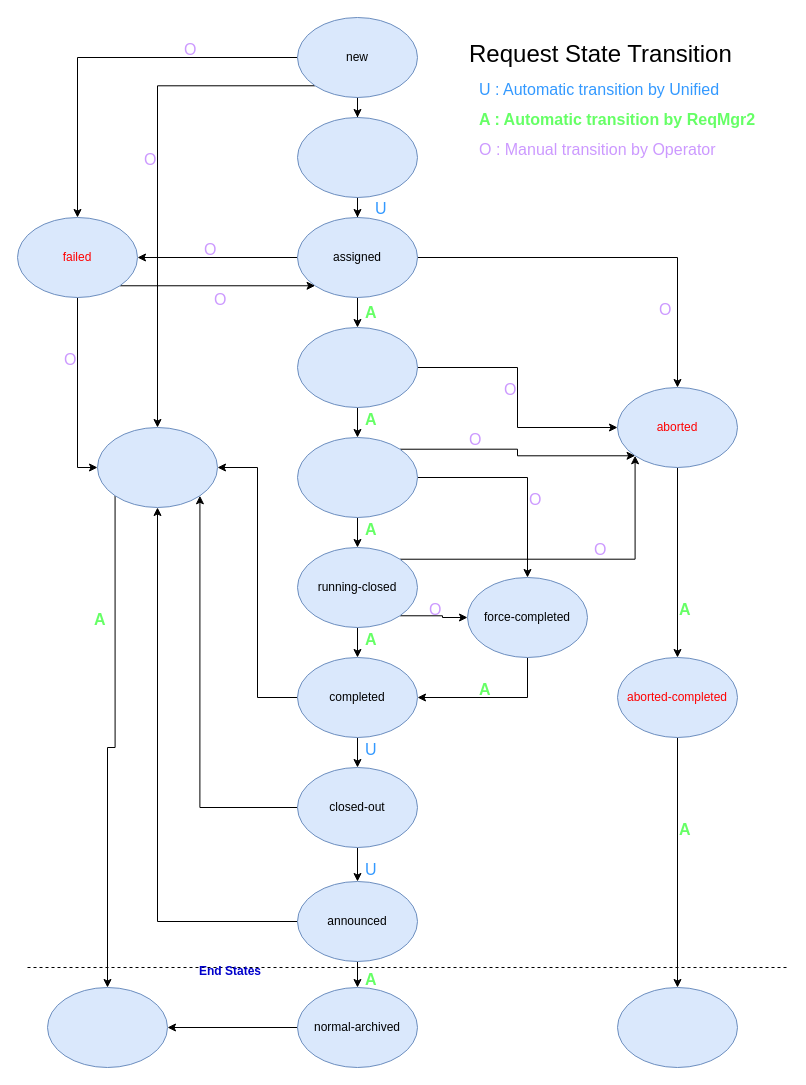
This 806x1085 diagram has some shape labels left out. Here are the shapes that lost their labels. From the top down, the box of each, then its label:
(296, 116, 418, 198): assignment-approved
(296, 326, 418, 408): acquired
(96, 426, 218, 508): rejected
(296, 436, 418, 518): running-open
(46, 986, 168, 1068): rejected-archived
(616, 986, 738, 1068): aborted-archived
